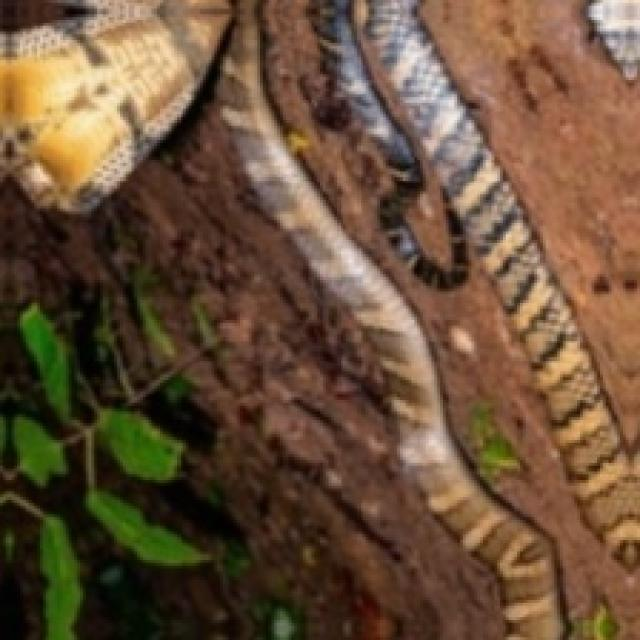king cobra: (0, 0, 637, 637), (83, 483, 211, 569), (14, 300, 80, 426), (89, 403, 186, 486)
